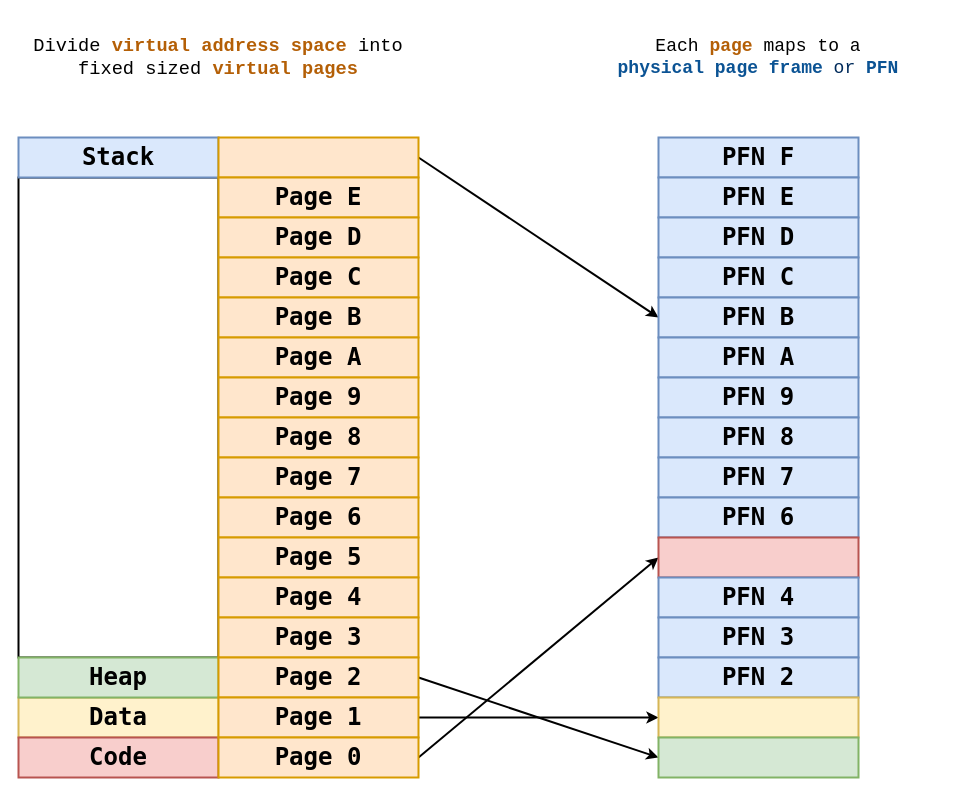
Image size: 975x795. Some labels were removed from this diagram. Each missing label, with the centre of its shape:
Page F: the point at 318,157
PFN 0: the point at 758,757
PFN 1: the point at 758,717
PFN 5: the point at 758,557
